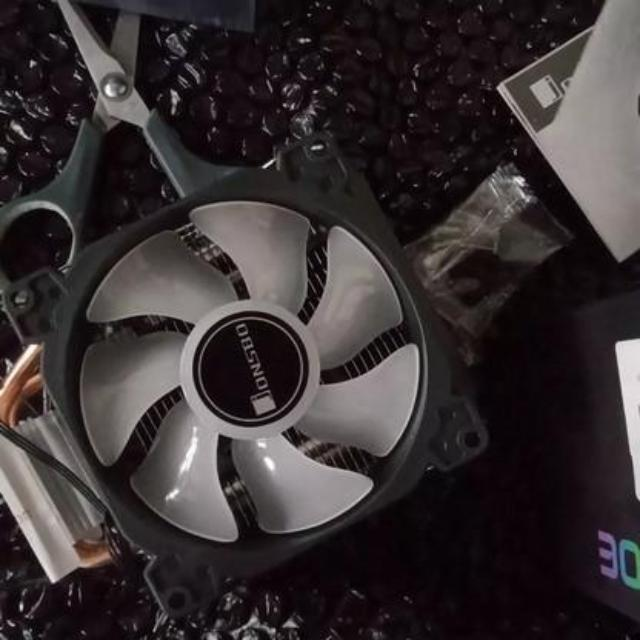CPU_Fan: (6, 133, 492, 601)
